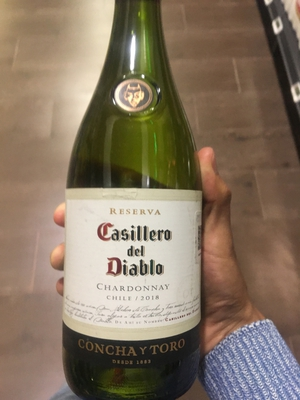casillero del diablo chardonnay: (64, 15, 204, 400)
